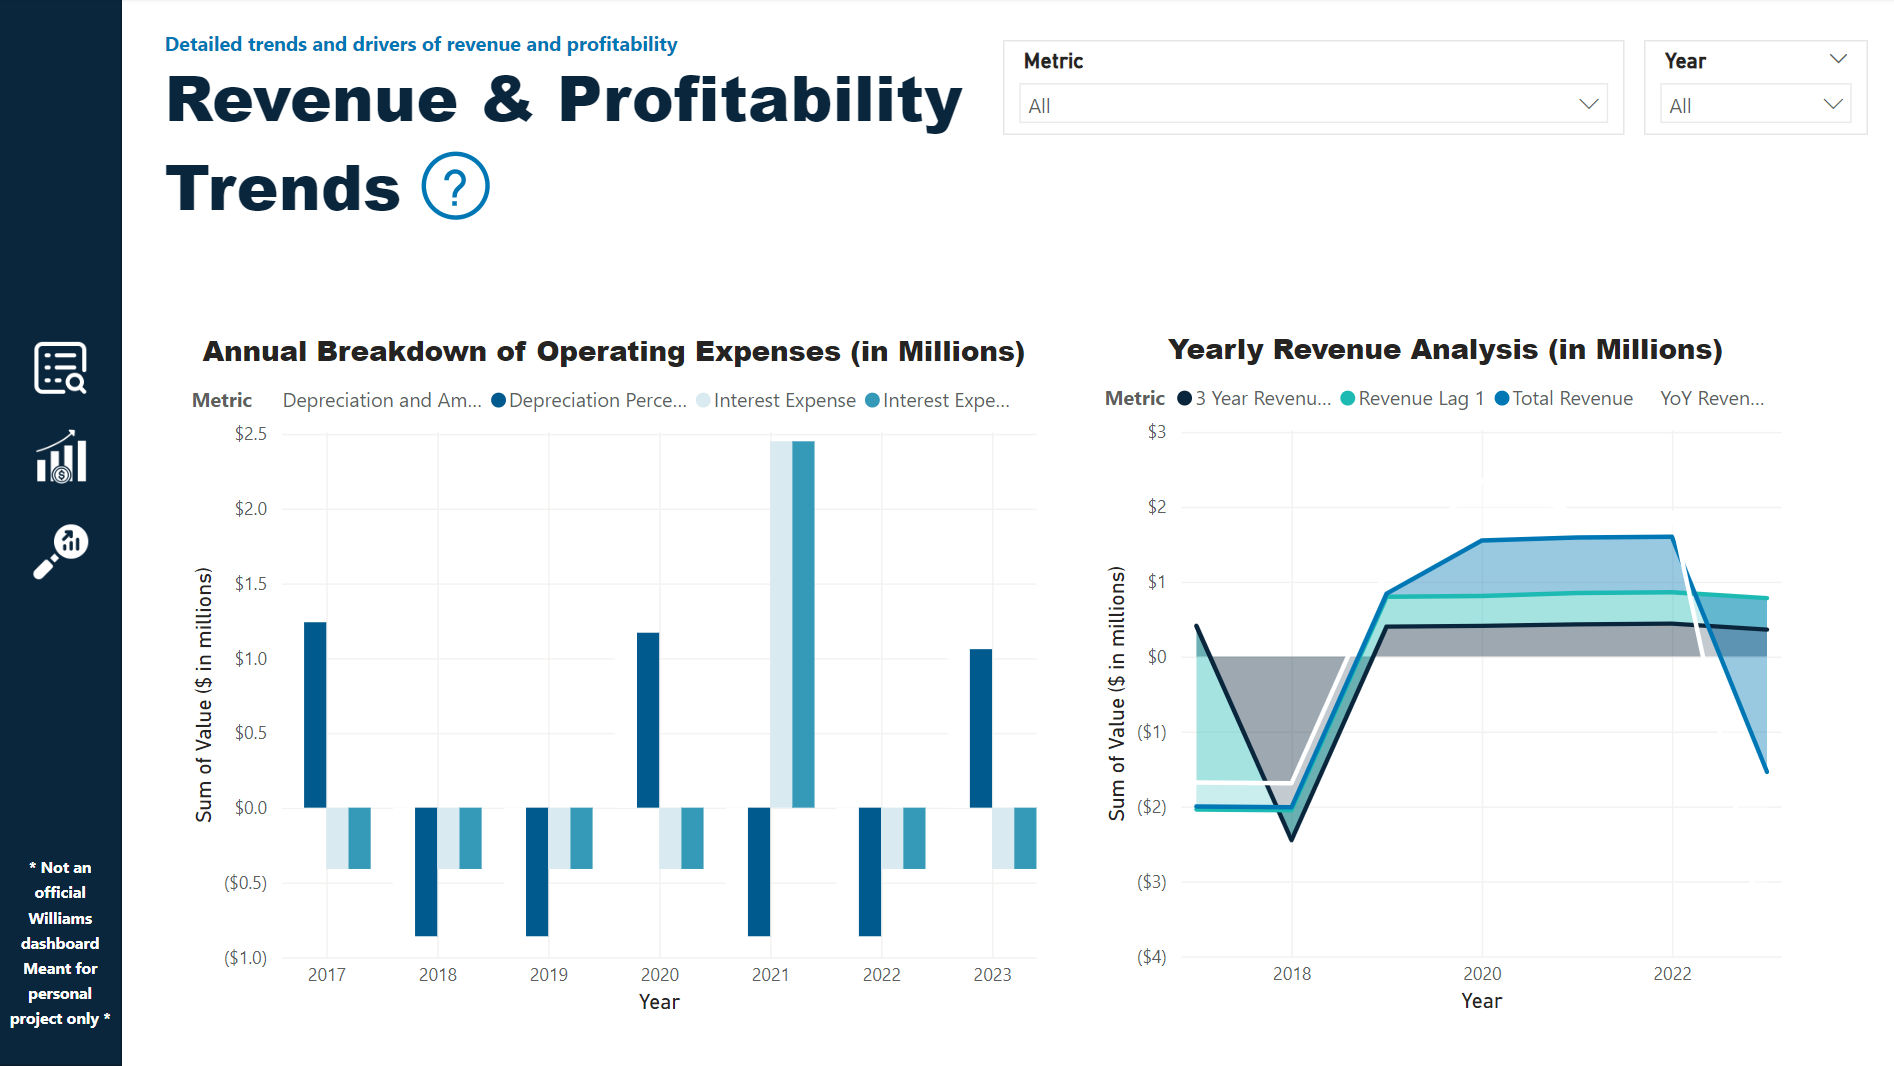

The page's visual inventory and layout, read from the dashboard file:
{"tool":"powerbi","page":{"name":"Revenue & Profitability Trends","canvas":[1280,720],"ordinal":2},"visuals":[{"type":"textbox","box":[107.1,31.2,590.3,132.7],"z":0},{"type":"textbox","box":[107.3,17.2,412,27.9],"z":1000},{"type":"shape","box":[0,0,83.6,720],"z":2000},{"type":"clusteredColumnChart","title":"Annual Breakdown of Operating Expenses (in Millions)","fields":{"Category":["williams_consolidated_df.Year"],"Y":["Sum(williams_consolidated_df.Value)"],"Series":["williams_consolidated_df.Metric Name"]},"box":[125.6,223.5,579.7,466.2],"z":3000},{"type":"stackedAreaChart","title":"Yearly Revenue Analysis (in Millions)","fields":{"Category":["williams_consolidated_df.Year"],"Y":["Sum(williams_consolidated_df.Value)"],"Series":["williams_consolidated_df.Metric Name"]},"box":[740.8,222.8,469.7,466.9],"z":4000},{"type":"actionButton","box":[278.8,97.2,102.2,58.9],"z":5000},{"type":"slicer","fields":{"Values":["williams_consolidated_df.Year"]},"box":[1109.7,28.4,151.1,63.9],"z":6000},{"type":"slicer","fields":{"Values":["williams_consolidated_df.Metric Name"]},"box":[677.6,28.4,418.6,63.9],"z":7000},{"type":"card","fields":{"Values":["Sum(williams_consolidated_df.Value)"]},"box":[280.3,103.6,56.1,46.1],"z":8000},{"type":"textbox","box":[0,571,83.7,149],"z":9000},{"type":"image","box":[17.5,285.2,49.2,47.9],"z":10000},{"type":"image","box":[19.6,223.8,45.2,51.2],"z":11000},{"type":"image","box":[18.9,347.9,47.2,50.6],"z":12000}]}

Visuals, with their boxes on the page's 1280x720 design canvas (x1, y1, x2, y2). These are canvas units, not pixel positions in the 1894x1066 screenshot, which may show the page scaled, cropped or inside an application window:
textbox: region(107, 31, 697, 164)
textbox: region(107, 17, 519, 45)
shape: region(0, 0, 84, 720)
"Annual Breakdown of Operating Expenses (in Millions)" clusteredColumnChart: region(126, 224, 705, 690)
"Yearly Revenue Analysis (in Millions)" stackedAreaChart: region(741, 223, 1210, 690)
actionButton: region(279, 97, 381, 156)
slicer - williams_consolidated_df.Year: region(1110, 28, 1261, 92)
slicer - williams_consolidated_df.Metric Name: region(678, 28, 1096, 92)
card - Sum(williams_consolidated_df.Value): region(280, 104, 336, 150)
textbox: region(0, 571, 84, 720)
image: region(18, 285, 67, 333)
image: region(20, 224, 65, 275)
image: region(19, 348, 66, 398)
